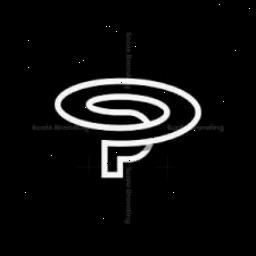p: (52, 71, 212, 201)
